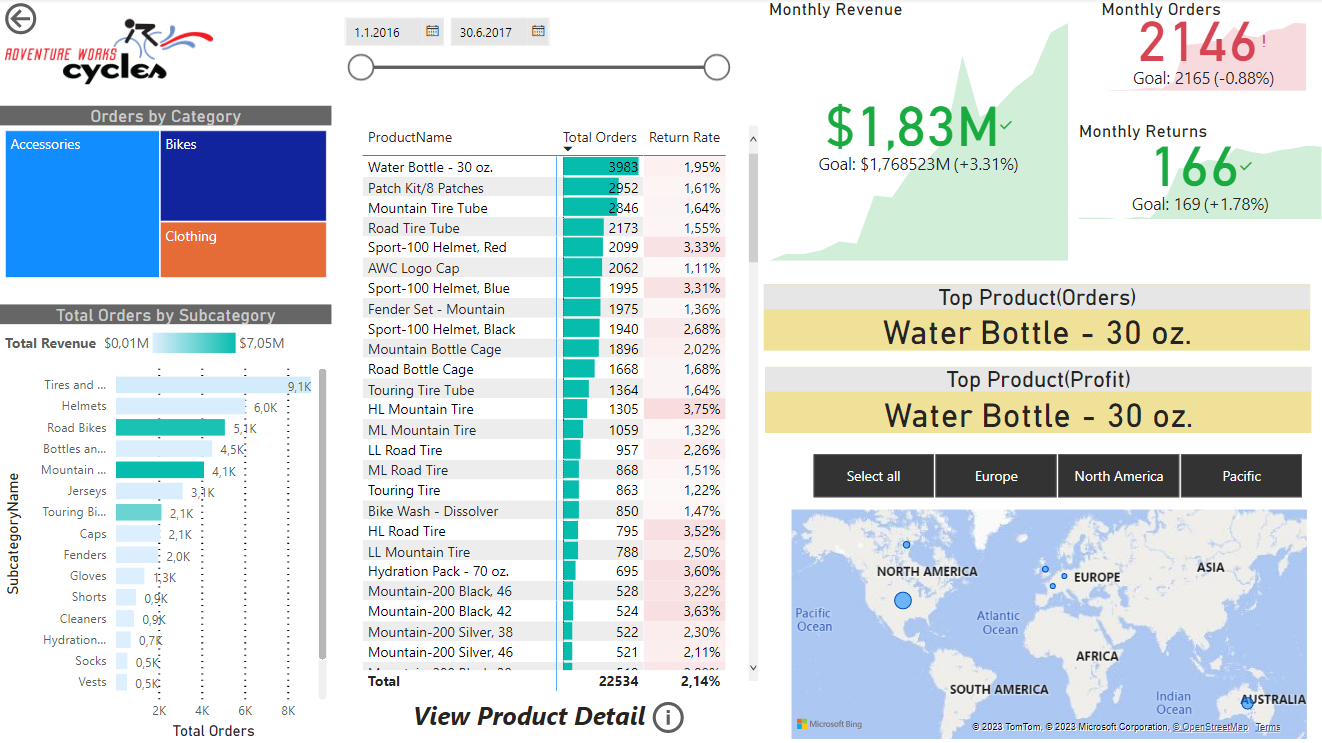

What the dashboard file says about the page in this screenshot:
{"tool":"powerbi","page":{"name":"Exec Summary","canvas":[1280,720],"ordinal":0},"visuals":[{"type":"image","box":[0,0,213.3,103.3],"z":0},{"type":"barChart","title":"Total Orders by Subcategory","fields":{"Y":["AW_Sales.Total Orders"],"Category":["AW_Product_Subcategory_Lookup.SubcategoryName"]},"box":[0,295,320,425],"z":1000},{"type":"treemap","title":"Orders by Category","fields":{"Group":["AW_Product_Category_Lookup.CategoryName","AW_Product_Subcategory_Lookup.SubcategoryName"],"Values":["AW_Sales.Total Orders"]},"box":[0,103.3,320,171.7],"z":2000},{"type":"pivotTable","fields":{"Values":["AW_Sales.Total Orders","AW_Returns.Return Rate"],"Rows":["AW_Product_Category_Lookup.CategoryName","AW_Product_Subcategory_Lookup.ProductSubcategoryKey","AW_Product_Lookup.ProductName"]},"box":[345,118.3,391.7,555],"z":3000},{"type":"slicer","fields":{"Values":["AW_Calendar_Lookup.Date"]},"box":[320,8.6,392.9,85.7],"z":4000},{"type":"kpi","title":"Monthly Revenue","fields":{"Indicator":["AW_Sales.Total Revenue"],"TrendLine":["AW_Calendar_Lookup.Start of Month"],"Goal":["AW_Sales.Prev Month Revenue"]},"box":[737.1,0,298.6,258.6],"z":5000},{"type":"kpi","title":"Monthly Orders","fields":{"TrendLine":["AW_Calendar_Lookup.Start of Month"],"Goal":["AW_Sales.Prev Month Orders"],"Indicator":["AW_Sales.Total Orders"]},"box":[1057.1,0,207.1,94.3],"z":6000},{"type":"kpi","title":"Monthly Returns","fields":{"TrendLine":["AW_Calendar_Lookup.Start of Month"],"Goal":["AW_Returns.Prev Month Returns"],"Indicator":["AW_Returns.Total Returns"]},"box":[1035.7,118.6,244.3,100],"z":7000},{"type":"card","title":"Top Product(Orders)","fields":{"Values":["Min(AW_Product_Lookup.ProductName)"]},"box":[737.1,275.7,527.1,64.3],"z":8000},{"type":"actionButton","box":[0,0,100,40],"z":9000},{"type":"card","title":"Top Product(Profit)","fields":{"Values":["Min(AW_Product_Lookup.ProductName)"]},"box":[738.6,355.7,527.1,64.3],"z":10000},{"type":"map","fields":{"Category":["AW_Territories_Lookup.Country"],"Size":["AW_Sales.Total Orders"]},"box":[758.6,488.6,507.1,231.4],"z":11000},{"type":"slicer","fields":{"Values":["AW_Territories_Lookup.Continent"]},"box":[758.6,432.9,521.4,55.7],"z":12000},{"type":"textbox","box":[393.3,670,245,50],"z":13000},{"type":"actionButton","box":[625,673.8,100,40],"z":14000}]}

Visuals, with their boxes in screenshot pixels (x1, y1, x2, y2), scaled from the page's 1280x720 canvas onto the 1322x743 screenshot:
image: 0/0/220/107
"Total Orders by Subcategory" barChart: 0/304/330/742
"Orders by Category" treemap: 0/107/330/284
pivotTable - AW_Sales.Total Orders x AW_Returns.Return Rate: 356/122/761/695
slicer - AW_Calendar_Lookup.Date: 330/9/736/97
"Monthly Revenue" kpi: 761/0/1070/267
"Monthly Orders" kpi: 1092/0/1306/97
"Monthly Returns" kpi: 1070/122/1321/226
"Top Product(Orders)" card: 761/285/1306/351
actionButton: 0/0/103/41
"Top Product(Profit)" card: 763/367/1307/433
map - AW_Territories_Lookup.Country x AW_Sales.Total Orders: 783/504/1307/742
slicer - AW_Territories_Lookup.Continent: 783/447/1321/504
textbox: 406/691/659/742
actionButton: 646/695/749/737
